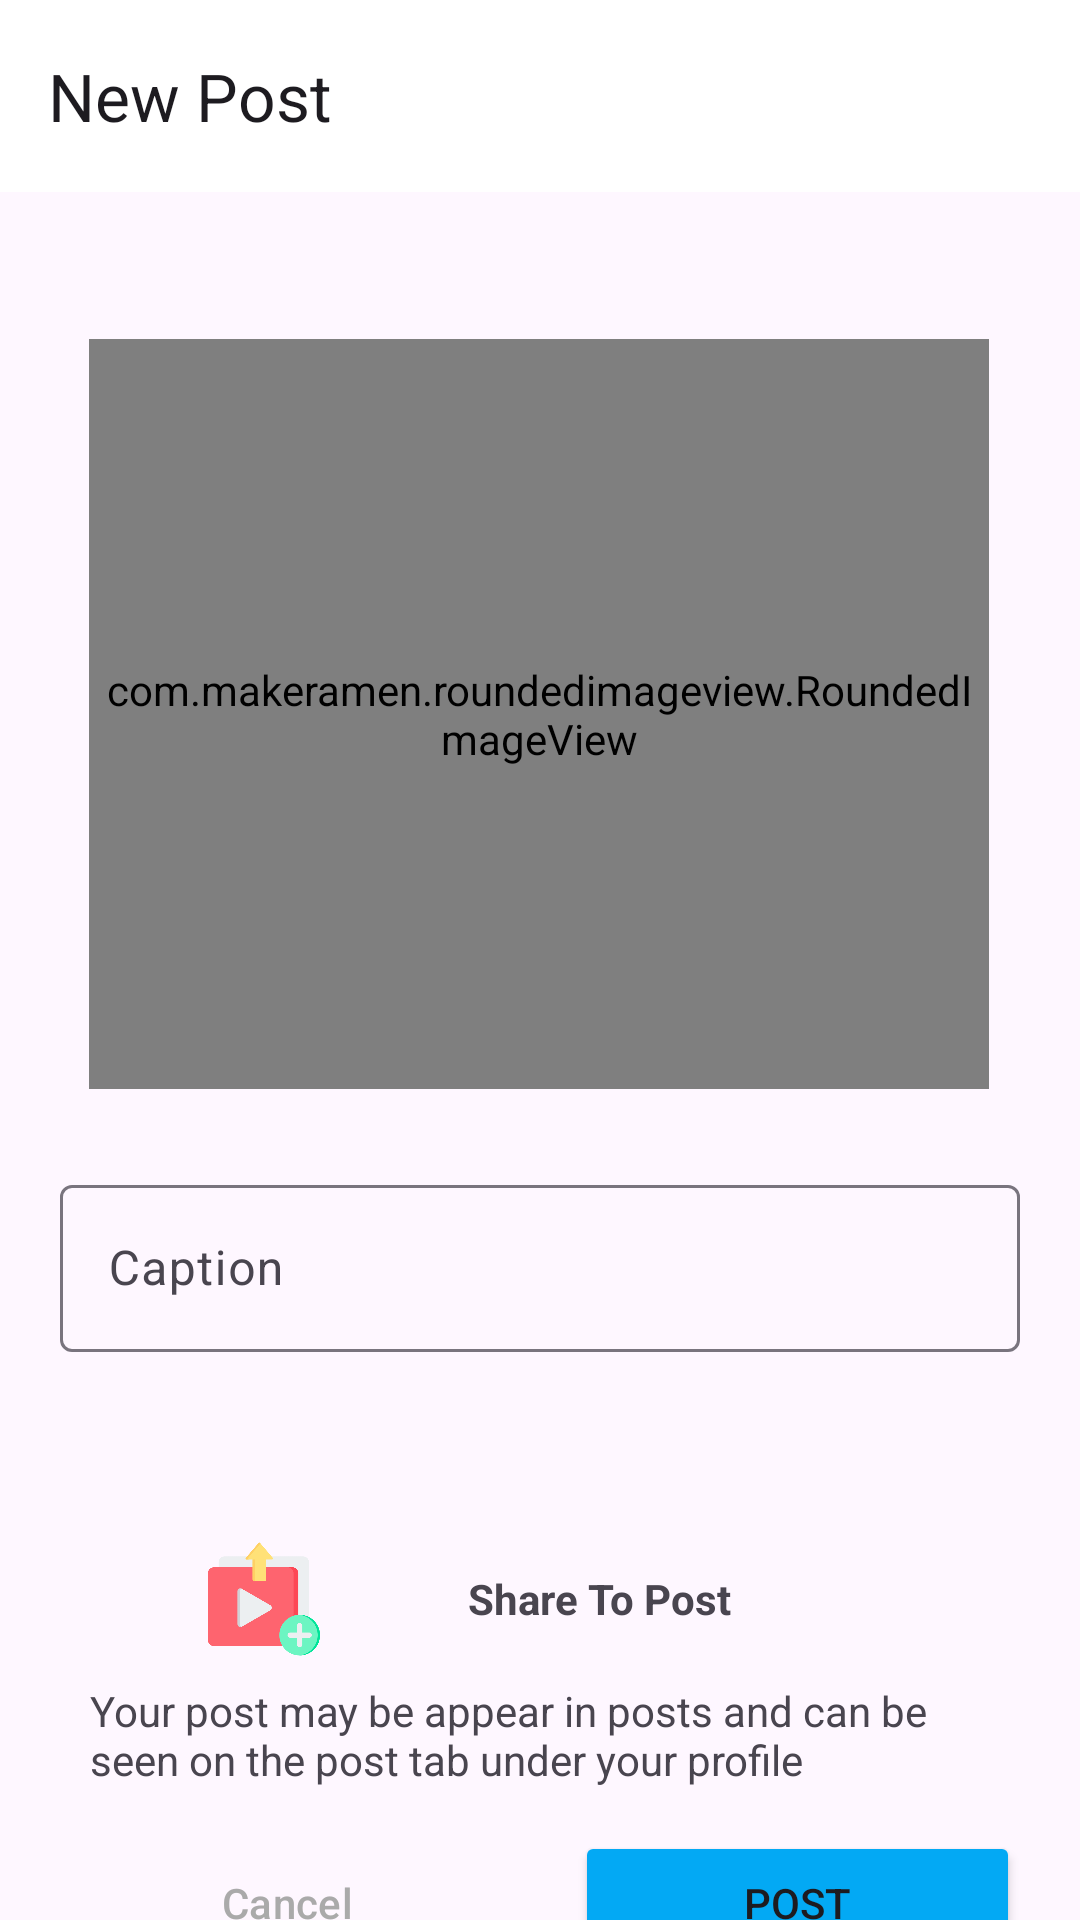

Named icons in this screenshot (1080px x 1920px) and their centers, (x,y):
uploadpost: (264,1599)
